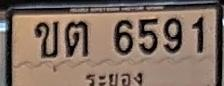1: (192, 16, 204, 52)
5: (138, 18, 158, 54)
6: (114, 19, 133, 54)
9: (163, 17, 182, 53)
A02: (34, 21, 59, 58)
A21: (64, 20, 88, 57)
RYG: (82, 68, 145, 86)
